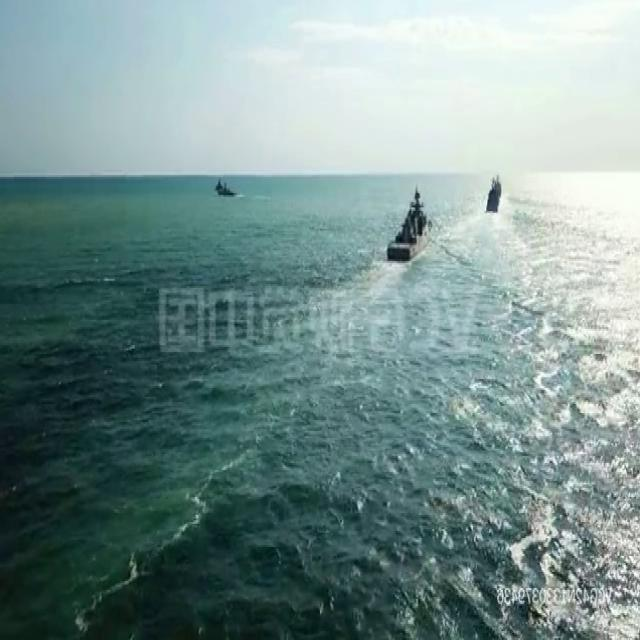navalvessels: (388, 186, 432, 258), (487, 182, 499, 212), (220, 177, 236, 199), (493, 171, 503, 196), (215, 173, 222, 190)
